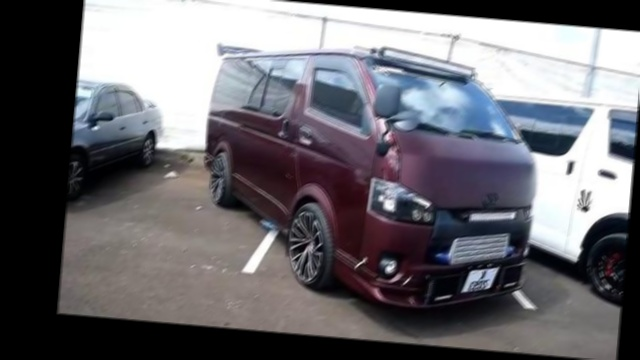van: (188, 31, 553, 329)
